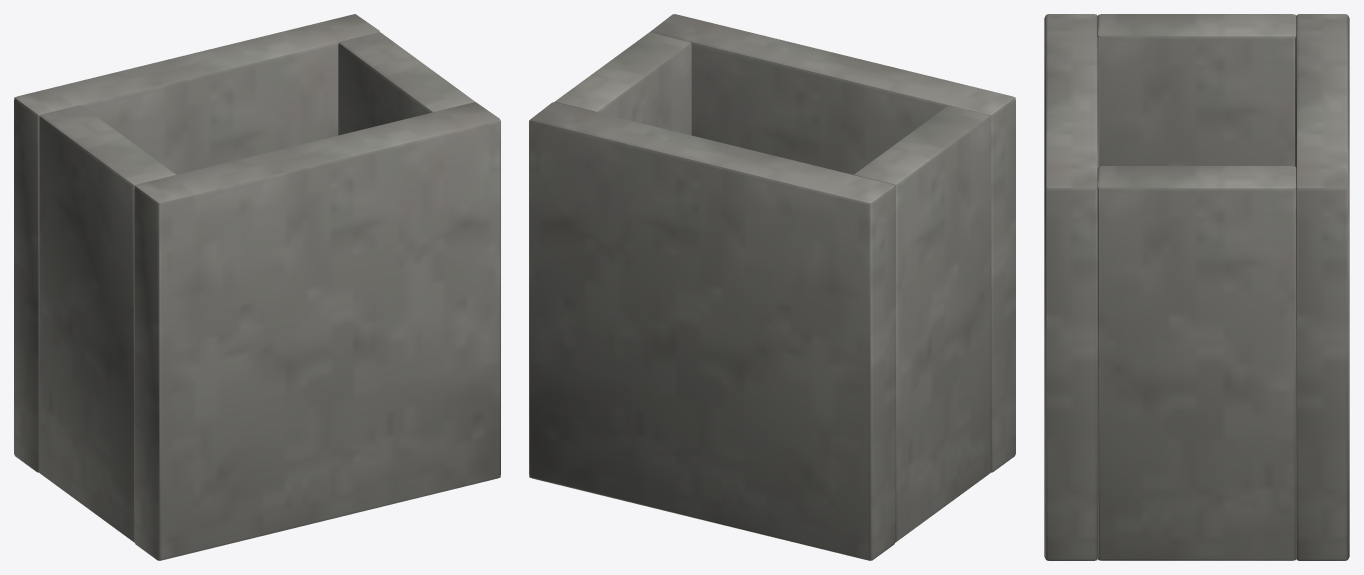
Rendered from ALV-BCO-002_lod1.glb.
The picture shows the model from 3 angles, left to right: view 1: azimuth 30°, elevation 25°; view 2: azimuth 150°, elevation 25°; view 3: azimuth 270°, elevation 25°; orthographic projection. The views are drawn at different scales.
Visible parts, largest first — view 1: ALV-BCO-002_pf1, ALV-BCO-002_t0, ALV-BCO-002_pf2, ALV-BCO-002_t1; view 2: ALV-BCO-002_pf2, ALV-BCO-002_t0, ALV-BCO-002_pf1, ALV-BCO-002_t1; view 3: ALV-BCO-002_t1, ALV-BCO-002_t0, ALV-BCO-002_pf1, ALV-BCO-002_pf2.
Part boxes in pixels (x1,y1,x2,y2): ALV-BCO-002_pf1: [134, 102, 500, 560]; ALV-BCO-002_t0: [39, 105, 175, 542]; ALV-BCO-002_pf2: [14, 14, 379, 472]; ALV-BCO-002_t1: [338, 32, 474, 135]; ALV-BCO-002_pf2: [529, 102, 895, 560]; ALV-BCO-002_t0: [854, 105, 990, 542]; ALV-BCO-002_pf1: [650, 14, 1015, 472]; ALV-BCO-002_t1: [555, 32, 691, 135]; ALV-BCO-002_t1: [1097, 166, 1296, 560]; ALV-BCO-002_t0: [1097, 14, 1296, 166]; ALV-BCO-002_pf1: [1044, 14, 1098, 560]; ALV-BCO-002_pf2: [1295, 14, 1349, 560].
Size of the model in its own units: 0.19 by 0.19 by 0.14.
1 material, 1 textured.
